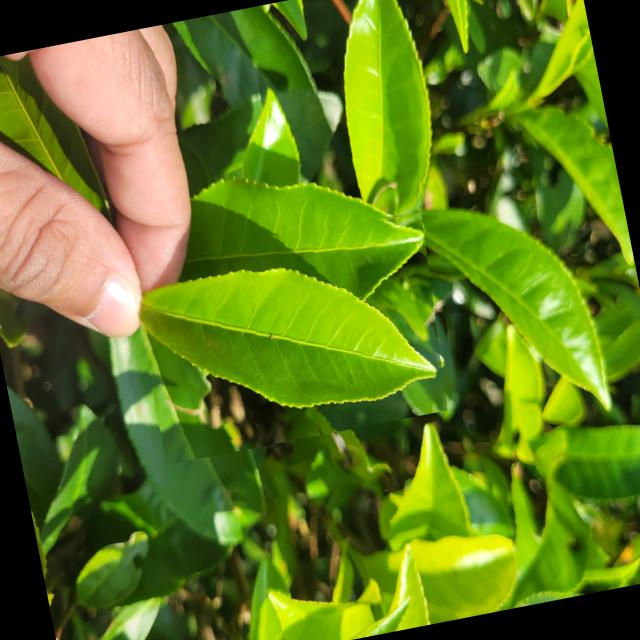Catagory A(1-2 days): (128, 203, 460, 465)
